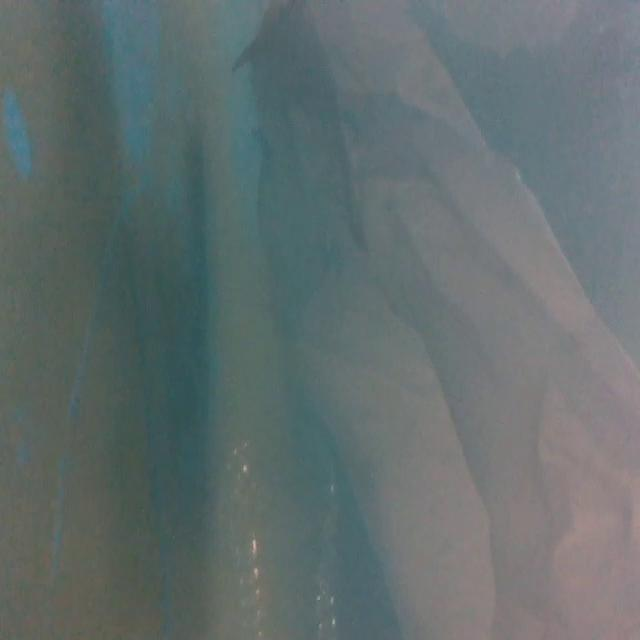plastic bags: (260, 1, 640, 640)
plastic bottle: (217, 429, 353, 640)
